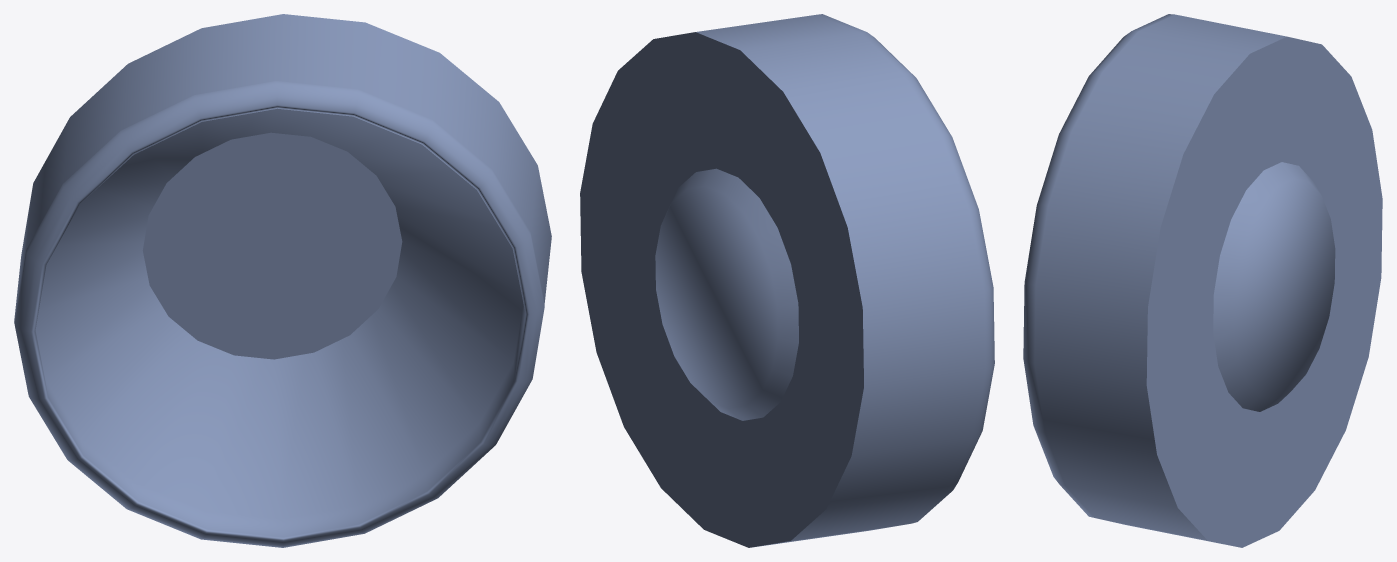
File: TL2_8shapes_Round_Classic_Metal.001 3.glb
3 views of the same model, side by side, from view 1: azimuth 30°, elevation 25°; view 2: azimuth 150°, elevation 25°; view 3: azimuth 270°, elevation 25° (orthographic). The views are drawn at different scales.
Visible parts, largest first — view 1: TL2_8shapes_Round_Classic_Metal.001; view 2: TL2_8shapes_Round_Classic_Metal.001; view 3: TL2_8shapes_Round_Classic_Metal.001.
Part boxes in pixels (bbox=[...]): TL2_8shapes_Round_Classic_Metal.001: bbox=[14, 14, 551, 547]; TL2_8shapes_Round_Classic_Metal.001: bbox=[580, 14, 994, 547]; TL2_8shapes_Round_Classic_Metal.001: bbox=[1023, 14, 1382, 547].
Size of the model in its own units: 0.5752 by 0.5642 by 0.3864.
